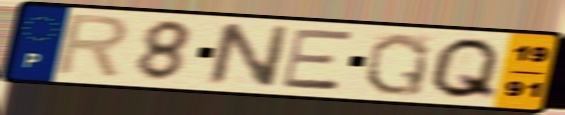8: (134, 18, 196, 83)
E: (278, 28, 355, 93)
N: (204, 21, 294, 89)
Q: (425, 35, 505, 103), (361, 31, 434, 98)
R: (49, 12, 134, 82)
